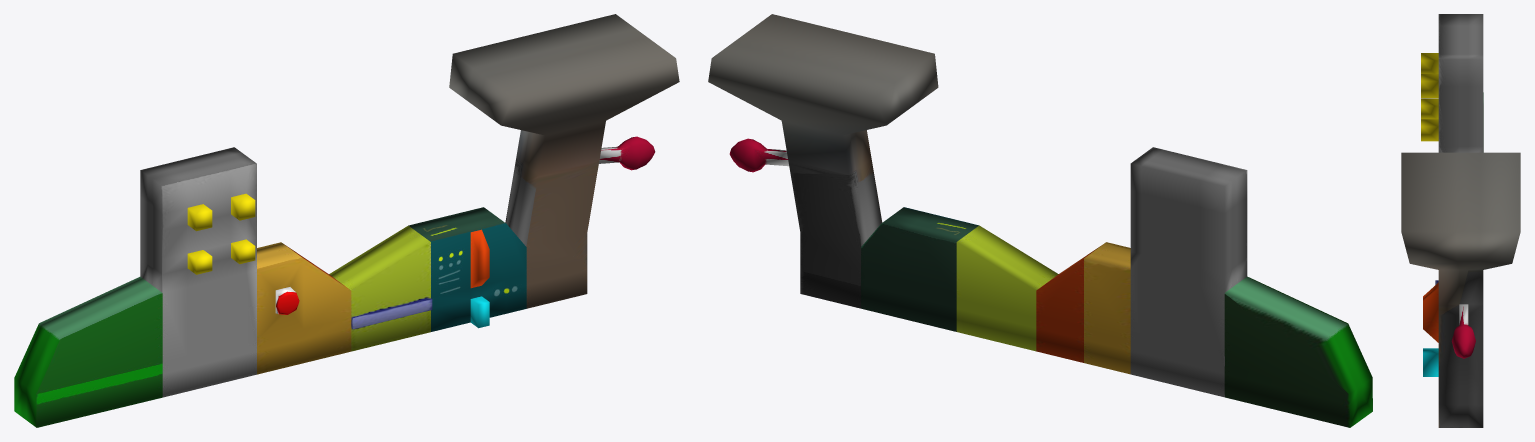
File: Huge_Machine.fbx
3 views of the same model, side by side, from view 1: azimuth 30°, elevation 25°; view 2: azimuth 150°, elevation 25°; view 3: azimuth 270°, elevation 25° (orthographic).
Parts seen in each view (by area): view 1: Huge_Machine; view 2: Huge_Machine; view 3: Huge_Machine.
Part boxes in pixels (left/top/right/bottom): Huge_Machine: left=14, top=14, right=679, bottom=427; Huge_Machine: left=708, top=14, right=1372, bottom=427; Huge_Machine: left=1401, top=14, right=1520, bottom=427.
Bounding box in the file's own units: 789 × 278 × 131.
Materials: 1 (1 with a texture image).
